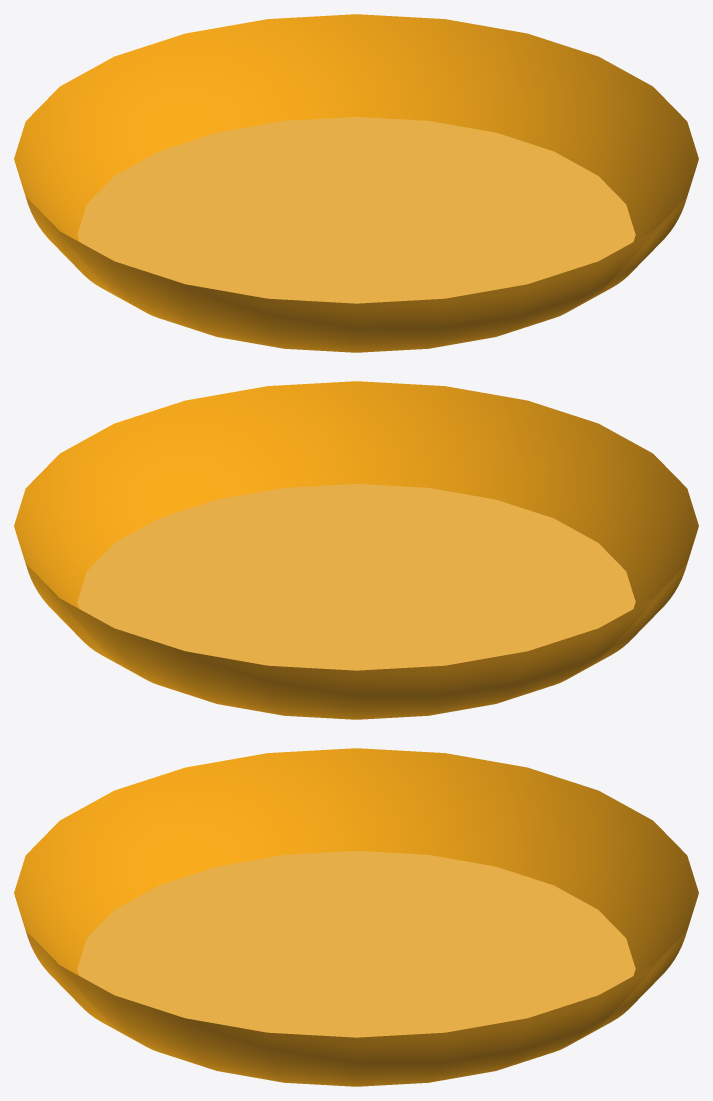
The model's file is plate.dae.
3 views of the same model, one above another, from view 1: azimuth 30°, elevation 25°; view 2: azimuth 150°, elevation 25°; view 3: azimuth 270°, elevation 25° (orthographic).
Parts seen in each view (by area): view 1: SketchUp; view 2: SketchUp; view 3: SketchUp.
Part boxes in pixels (left/top/right/bottom): SketchUp: left=14, top=14, right=698, bottom=352; SketchUp: left=14, top=381, right=698, bottom=719; SketchUp: left=14, top=748, right=698, bottom=1086.
Size of the model in its own units: 14.49 by 14.49 by 1.77.
